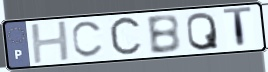B: (144, 13, 183, 56)
C: (108, 14, 145, 60), (70, 19, 105, 60)
H: (29, 19, 73, 66)
Q: (185, 10, 221, 52)
T: (221, 5, 254, 50)
